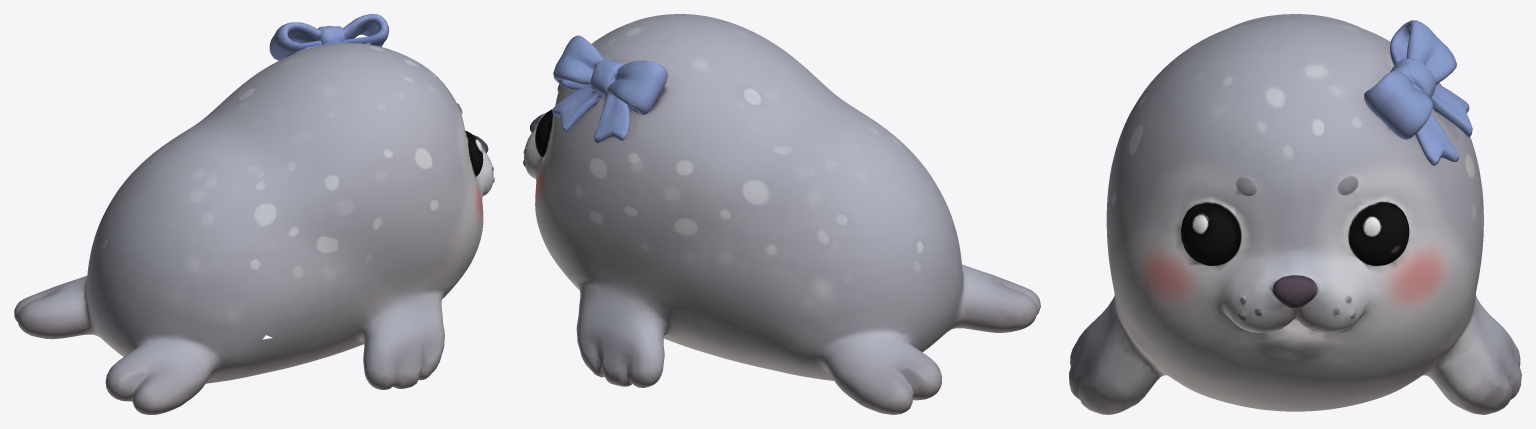
File: seal.glb
3 views of the same model, side by side, from view 1: azimuth 30°, elevation 25°; view 2: azimuth 150°, elevation 25°; view 3: azimuth 270°, elevation 25° (orthographic). The views are drawn at different scales.
Visible parts, largest first — view 1: tripo_node_24efa4de-11c5-4bf6-a213-59e6a676c98f; view 2: tripo_node_24efa4de-11c5-4bf6-a213-59e6a676c98f; view 3: tripo_node_24efa4de-11c5-4bf6-a213-59e6a676c98f.
Part boxes in pixels (left/top/right/bottom): tripo_node_24efa4de-11c5-4bf6-a213-59e6a676c98f: left=14, top=14, right=494, bottom=414; tripo_node_24efa4de-11c5-4bf6-a213-59e6a676c98f: left=523, top=14, right=1040, bottom=414; tripo_node_24efa4de-11c5-4bf6-a213-59e6a676c98f: left=1069, top=14, right=1521, bottom=414.
Size of the model in its own units: 0.9797 by 0.6194 by 0.6649.
1 material, 1 textured.
